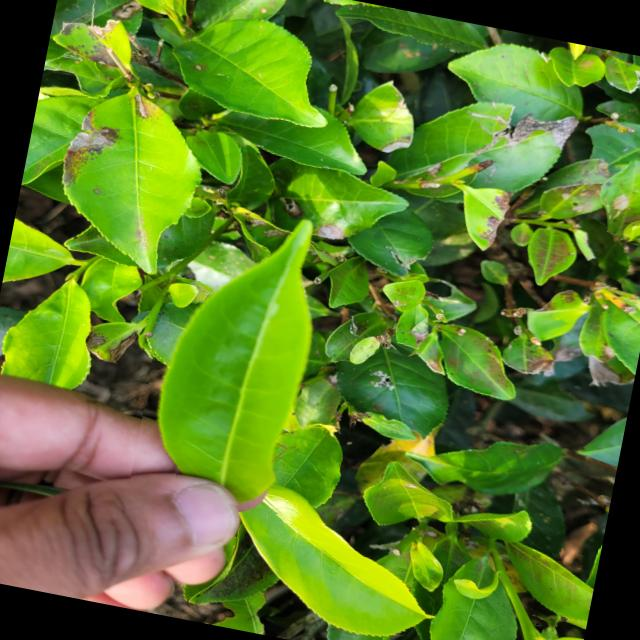Category B(2-4 days): (126, 178, 394, 526)
